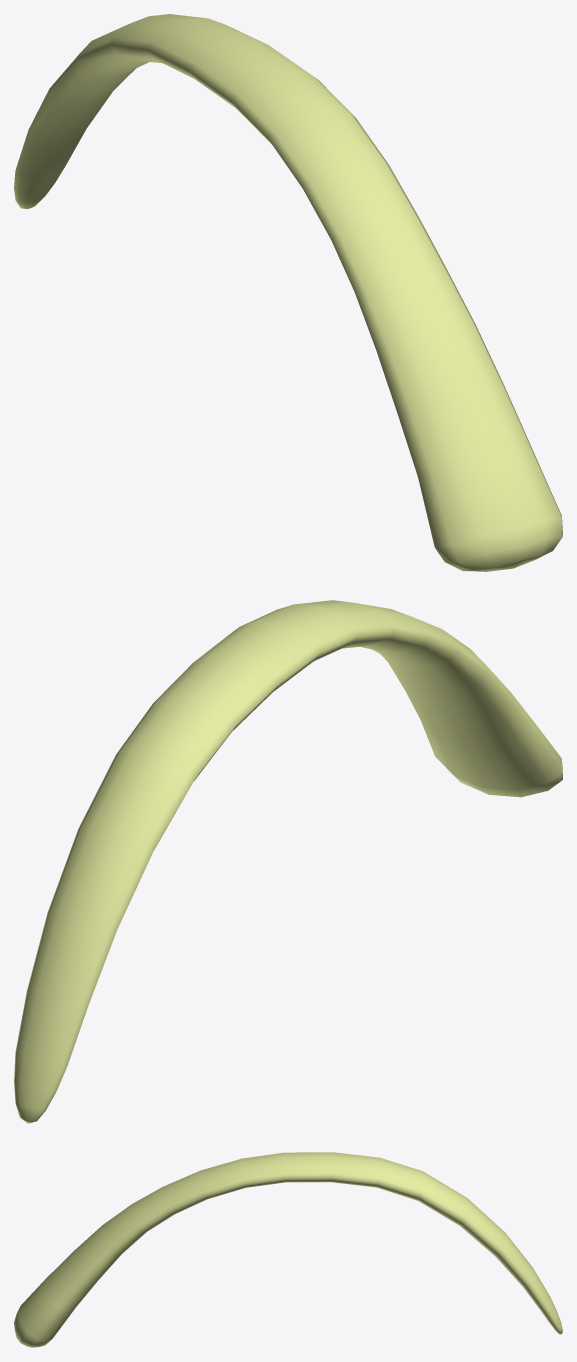
File: Bone3_Bogdan.fbx
3 renders of one model, top to bottom at view 1: azimuth 30°, elevation 25°; view 2: azimuth 150°, elevation 25°; view 3: azimuth 270°, elevation 25°, orthographic. The views are drawn at different scales.
Visible parts, largest first — view 1: Bone3; view 2: Bone3; view 3: Bone3.
Part boxes in pixels (<box>): Bone3: <box>14,14,562,571</box>; Bone3: <box>14,600,562,1123</box>; Bone3: <box>14,1152,562,1347</box>.
Size of the model in its own units: 226 by 563 by 1516.
